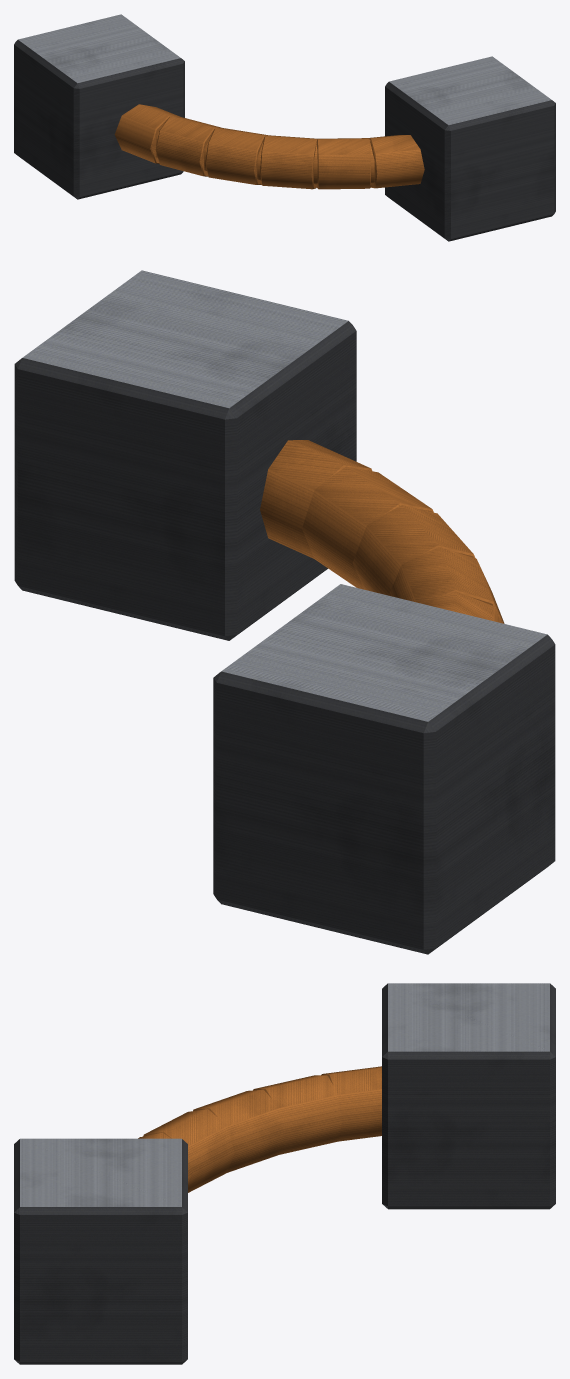
File: R4C_STRUT_ARC_LOD1.glb
3 views of the same model, one above another, from view 1: azimuth 30°, elevation 25°; view 2: azimuth 150°, elevation 25°; view 3: azimuth 270°, elevation 25° (orthographic). The views are drawn at different scales.
Visible parts, largest first — view 1: R4C_STRUT_ARC_LOD1; view 2: R4C_STRUT_ARC_LOD1; view 3: R4C_STRUT_ARC_LOD1.
Boxes of the visible parts, bbox=[...] form: R4C_STRUT_ARC_LOD1: bbox=[14, 14, 555, 241]; R4C_STRUT_ARC_LOD1: bbox=[14, 270, 555, 954]; R4C_STRUT_ARC_LOD1: bbox=[14, 983, 555, 1364].
Size of the model in its own units: 1.62 by 0.52 by 1.62.
3 materials, 3 textured.
